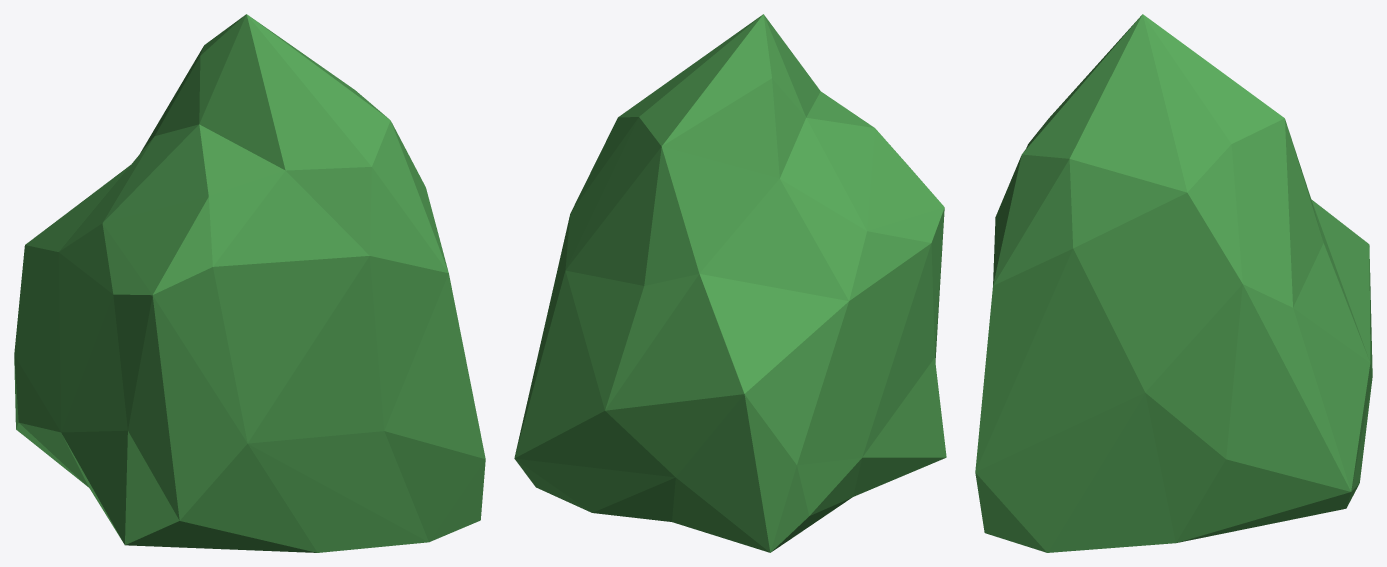
File: e_olivina_006.fbx
3 views of the same model, side by side, from view 1: azimuth 30°, elevation 25°; view 2: azimuth 150°, elevation 25°; view 3: azimuth 270°, elevation 25° (orthographic). The views are drawn at different scales.
Visible parts, largest first — view 1: e_olivina_lowpoly_001; view 2: e_olivina_lowpoly_001; view 3: e_olivina_lowpoly_001.
Boxes of the visible parts, <box> form: e_olivina_lowpoly_001: <box>14,14,485,552</box>; e_olivina_lowpoly_001: <box>514,14,946,552</box>; e_olivina_lowpoly_001: <box>975,14,1372,552</box>.
Bounding box in the file's own units: 31.94 × 44.62 × 34.52.
